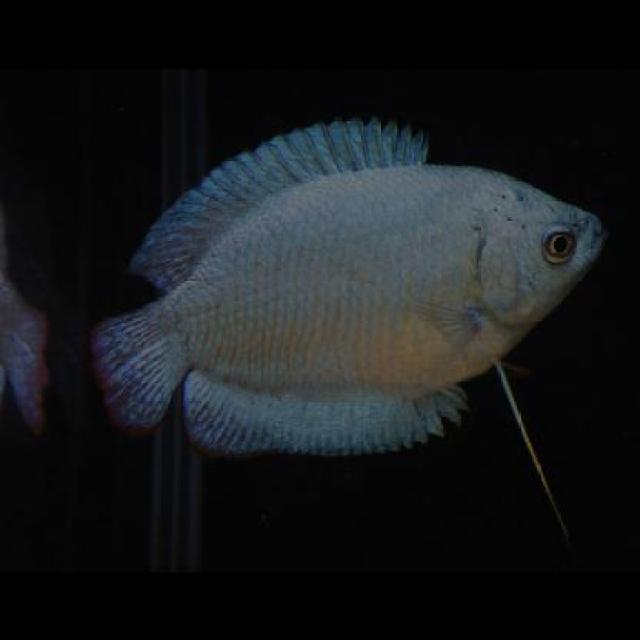Gourami: (90, 111, 605, 452)
